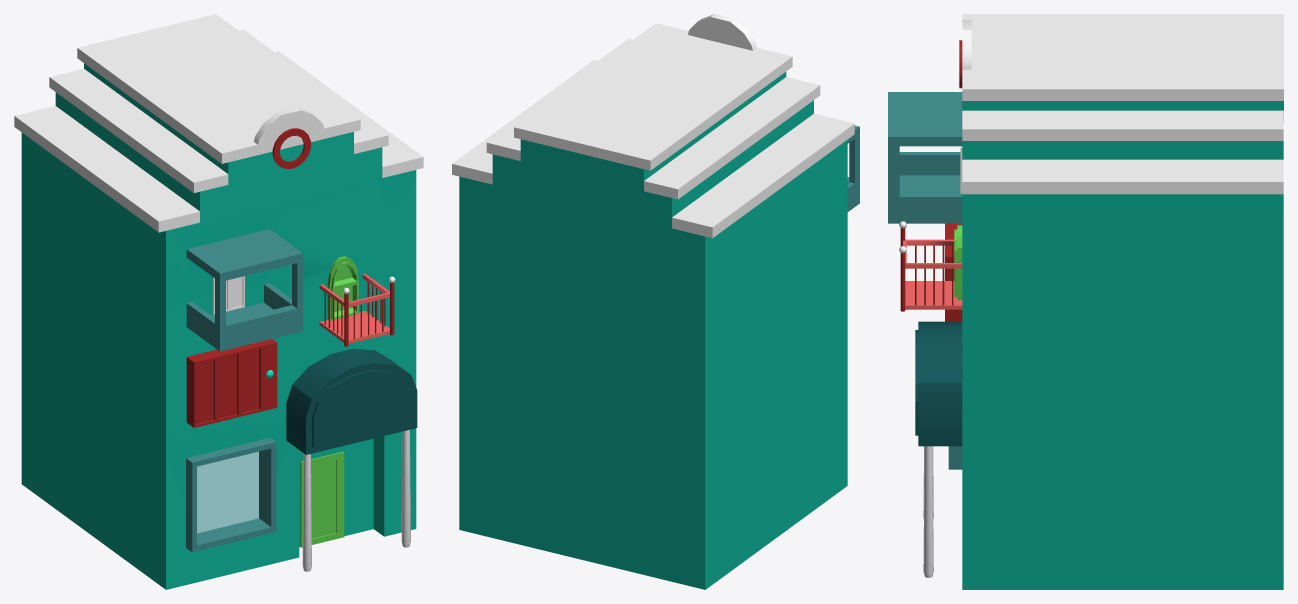
3 renders of one model, left to right at view 1: azimuth 30°, elevation 25°; view 2: azimuth 150°, elevation 25°; view 3: azimuth 270°, elevation 25°, orthographic. The views are drawn at different scales.
Visible parts, largest first — view 1: Box001, Box003, Box004, Box002, Box005, Cylinder002, Cylinder001, Tube001, Box006; view 2: Box001; view 3: Box001, Box003, Cylinder001, Box004, Box005.
Part boxes in pixels (<box>): Box001: <box>14,14,423,589</box>; Box003: <box>286,348,417,454</box>; Box004: <box>186,339,277,427</box>; Box002: <box>300,451,344,547</box>; Box005: <box>327,256,358,320</box>; Cylinder002: <box>302,453,311,571</box>; Cylinder001: <box>401,430,410,547</box>; Tube001: <box>272,128,310,168</box>; Box006: <box>212,276,244,314</box>; Box001: <box>452,14,859,589</box>; Box001: <box>888,14,1283,589</box>; Box003: <box>915,321,962,446</box>; Cylinder001: <box>923,446,933,577</box>; Box004: <box>945,223,962,321</box>; Box005: <box>954,225,962,300</box>.
Size of the model in its own units: 42.34 by 68.25 by 49.24.
Materials: 6 (1 with a texture image).
